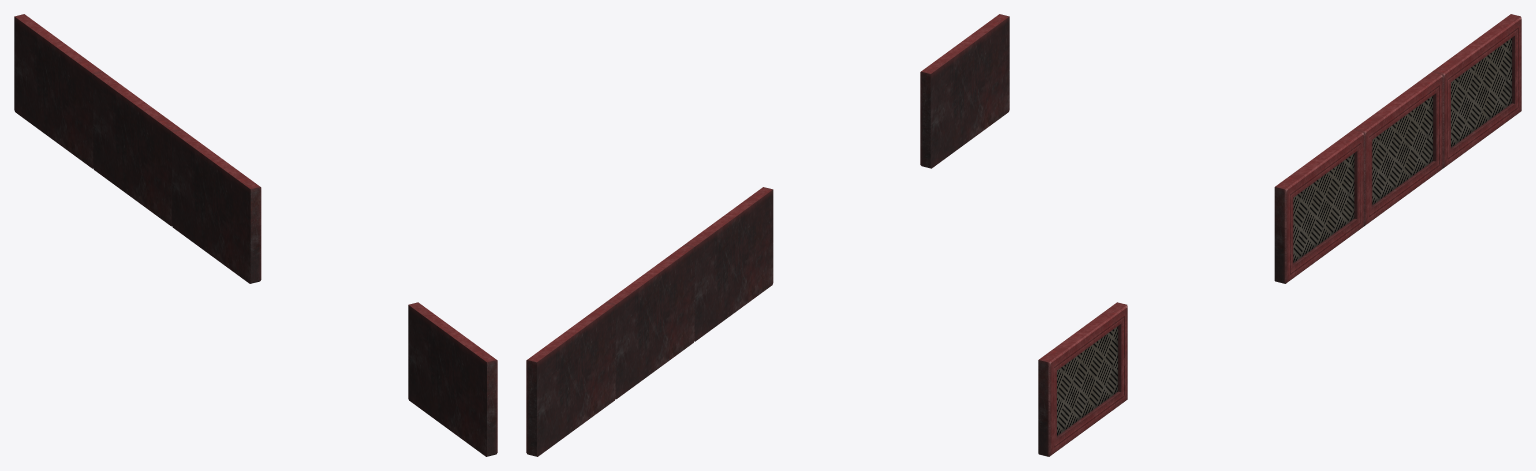
Rendered from Elevator Area Lateral 1.fbx.
The picture shows the model from 3 angles, left to right: view 1: azimuth 30°, elevation 25°; view 2: azimuth 150°, elevation 25°; view 3: azimuth 330°, elevation 25°; orthographic projection.
Parts seen in each view (by area): view 1: Elevator Area Lateral 1; view 2: Elevator Area Lateral 1; view 3: Elevator Area Lateral 1.
Part boxes in pixels (<box>): Elevator Area Lateral 1: <box>14,14,497,456</box>; Elevator Area Lateral 1: <box>526,14,1009,456</box>; Elevator Area Lateral 1: <box>1038,14,1521,456</box>.
Bounding box in the file's own units: 0.5 × 4 × 36.
